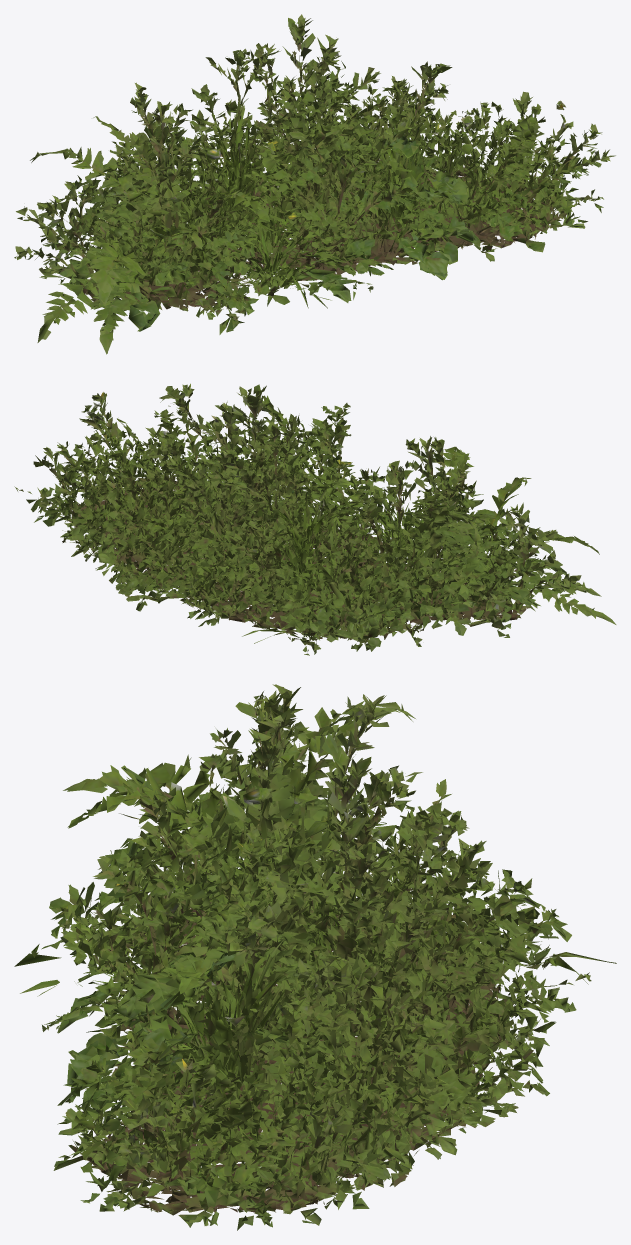
The model's file is shrub_lod1.glb.
The picture shows the model from 3 angles, top to bottom: view 1: azimuth 30°, elevation 25°; view 2: azimuth 150°, elevation 25°; view 3: azimuth 270°, elevation 25°; orthographic projection. The views are drawn at different scales.
Visible parts, largest first — view 1: Mesh_0; view 2: Mesh_0; view 3: Mesh_0.
Boxes of the visible parts, box(x1,y1,x2,y2) form: Mesh_0: box(14, 14, 615, 354); Mesh_0: box(14, 383, 616, 655); Mesh_0: box(14, 684, 616, 1230).
Bounding box in the file's own units: 1.87 × 0.6613 × 1.12.
Materials: 1 (1 with a texture image).
